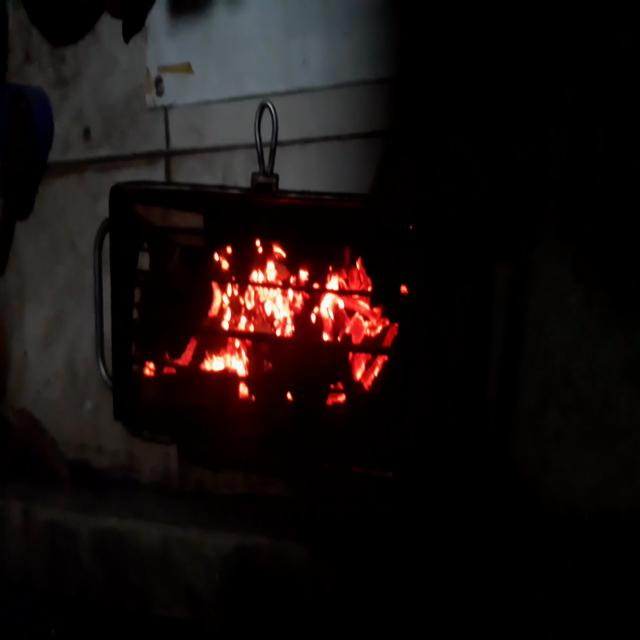Fire: (133, 222, 413, 421)
